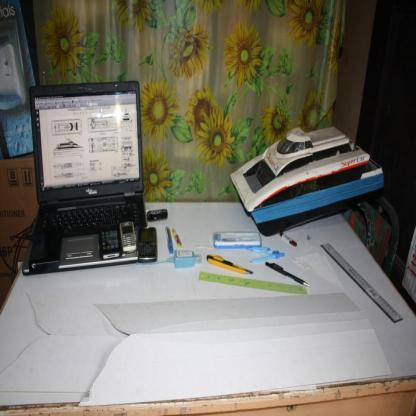board: (22, 81, 154, 279), (206, 254, 253, 276), (166, 225, 174, 252)
